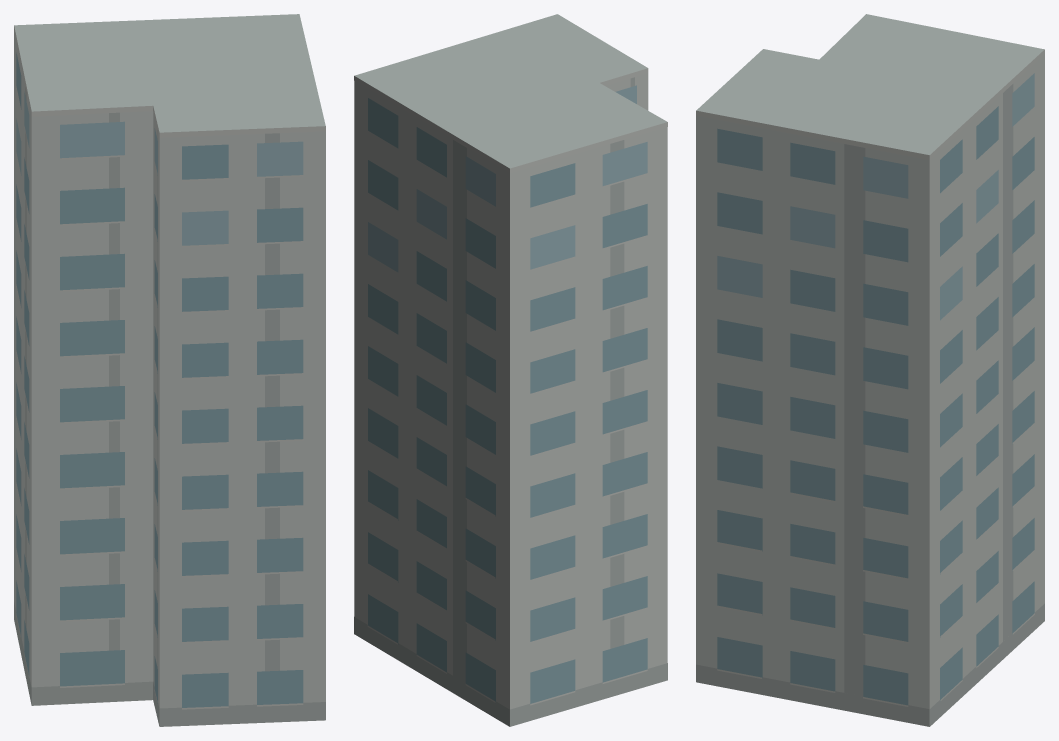
The model's file is survey-upis-32989422.glb.
The picture shows the model from 3 angles, left to right: view 1: azimuth 30°, elevation 25°; view 2: azimuth 150°, elevation 25°; view 3: azimuth 270°, elevation 25°; orthographic projection. The views are drawn at different scales.
Visible parts, largest first — view 1: survey-upis-32989422.tmp; view 2: survey-upis-32989422.tmp; view 3: survey-upis-32989422.tmp.
Boxes of the visible parts, x1,y1,x2,y2 form: survey-upis-32989422.tmp: (14,14,325,726); survey-upis-32989422.tmp: (354,14,667,726); survey-upis-32989422.tmp: (696,14,1044,726).
Size of the model in its own units: 14.52 by 27.4 by 15.16.
